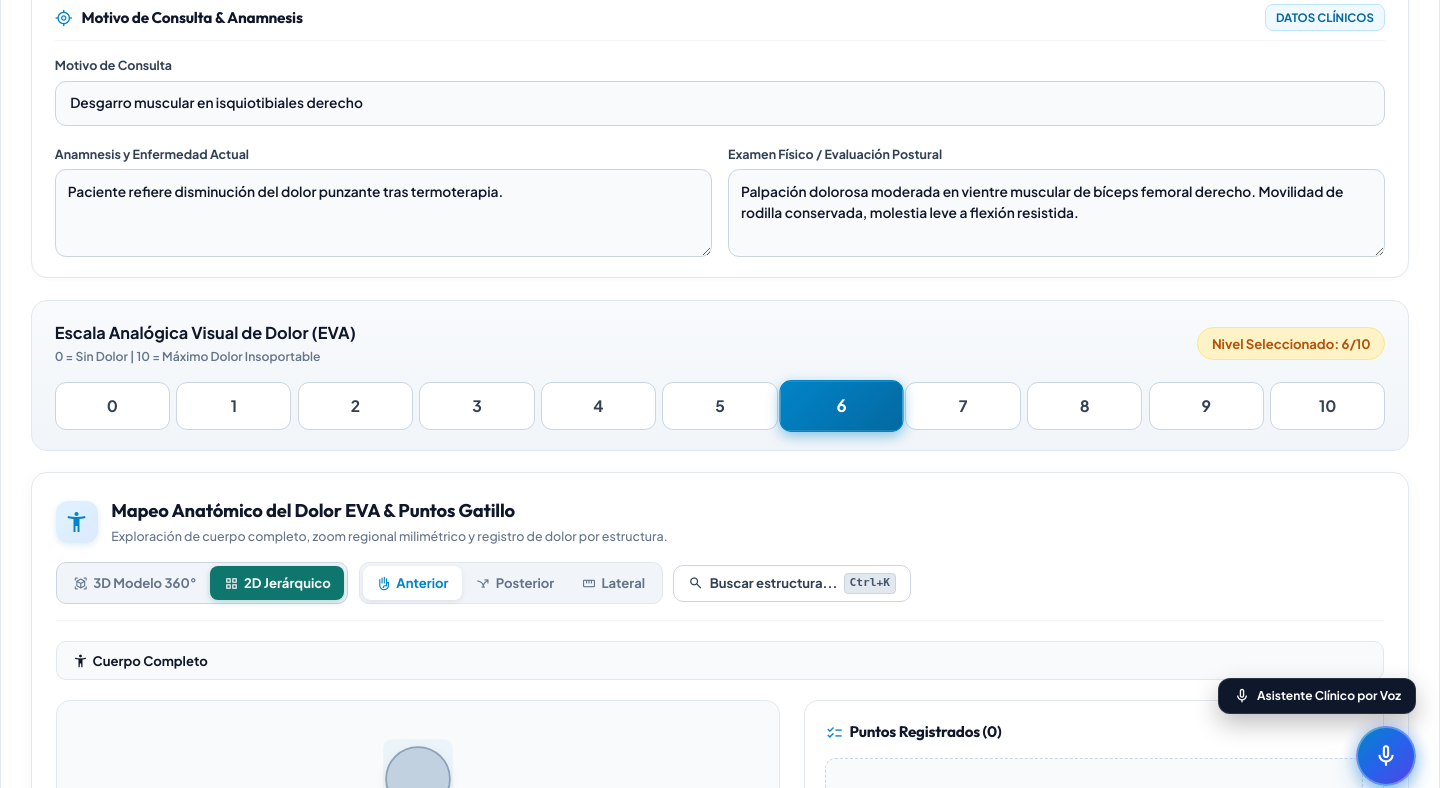
Scenario: ClinicalConsultationView Component › allows interacting with EVA pain scale and tab switching
The width and height of the screenshot is (1440, 788).
(page scrolled)
Note: Click on EVA scale button 9
Step 1. Click the button "9" → click(1206, 406), box x1=1148 y1=382 x2=1264 y2=430
(page scrolled)
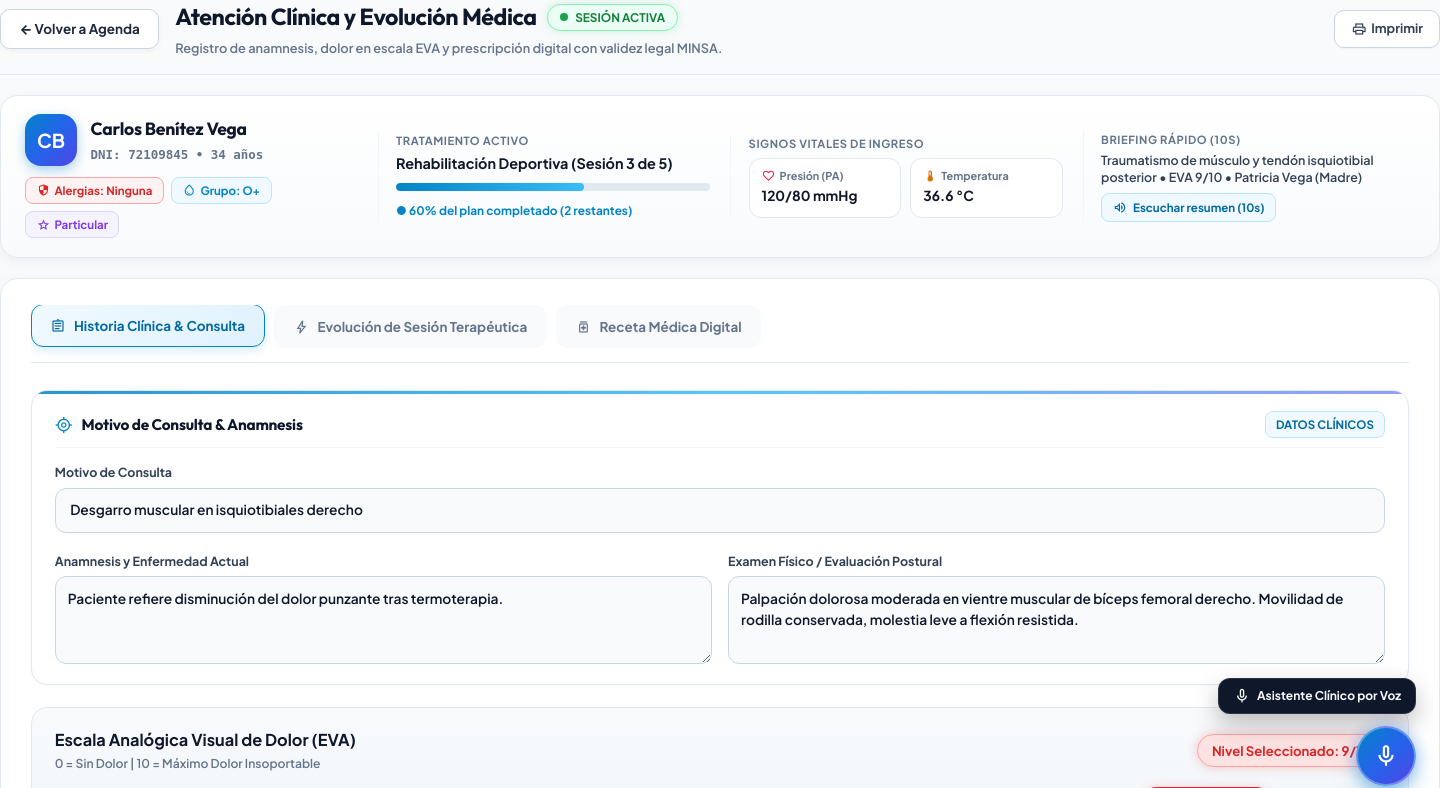
Expected: the text "Nivel Seleccionado: 9/10" is shown, x1=1197 y1=734 x2=1385 y2=767
Note: Switch to Evolución de Sesión Terapéutica
Step 2. Click the button "Evolución de Sesión Terapéutica" → click(410, 327), box x1=274 y1=305 x2=547 y2=348
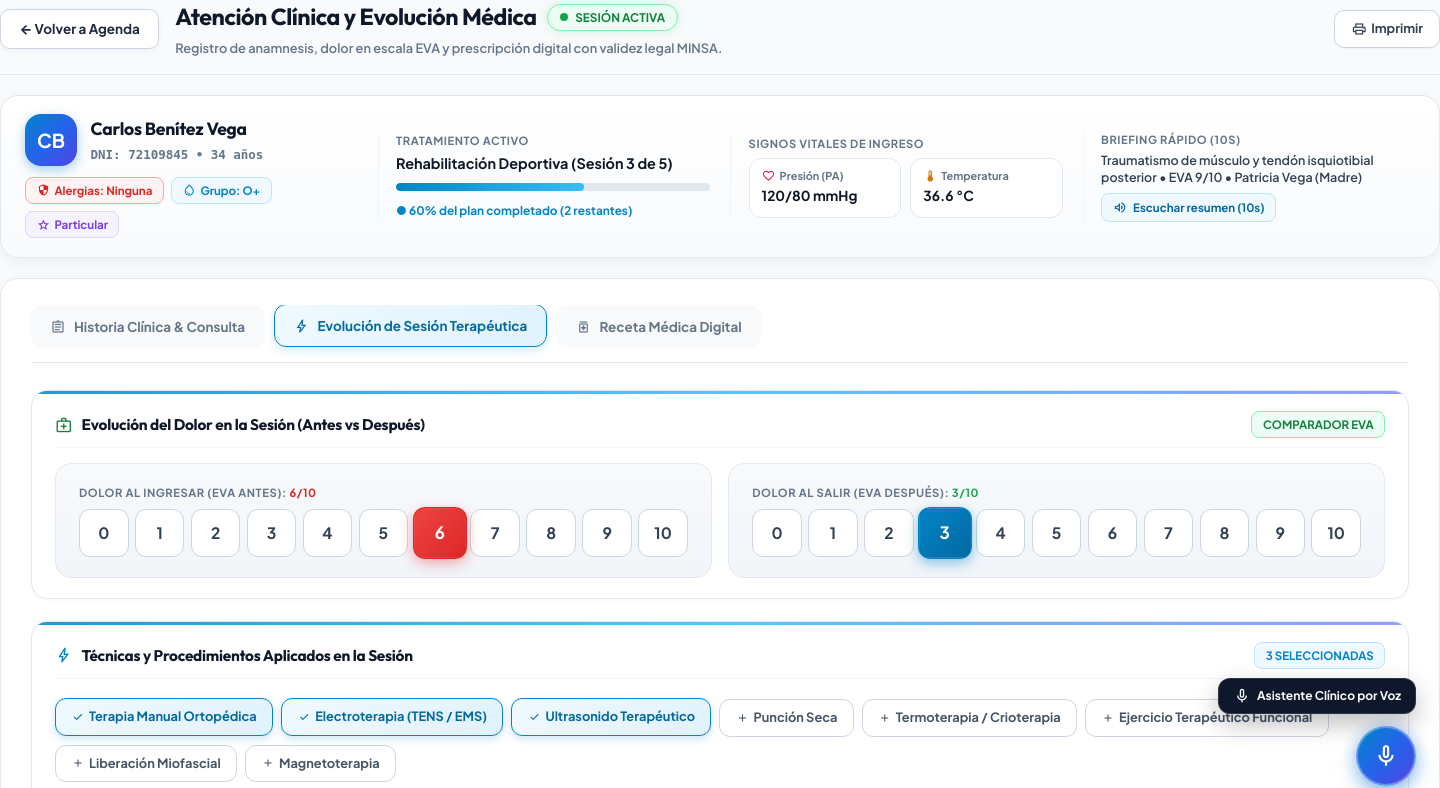
Expected: the heading "Técnicas y Procedimientos Aplicados en la Sesión" is shown, x1=55 y1=644 x2=413 y2=667
Note: Switch to Receta Médica
Step 3. Click the button "Receta Médica Digital" → click(659, 327), box x1=556 y1=305 x2=761 y2=348
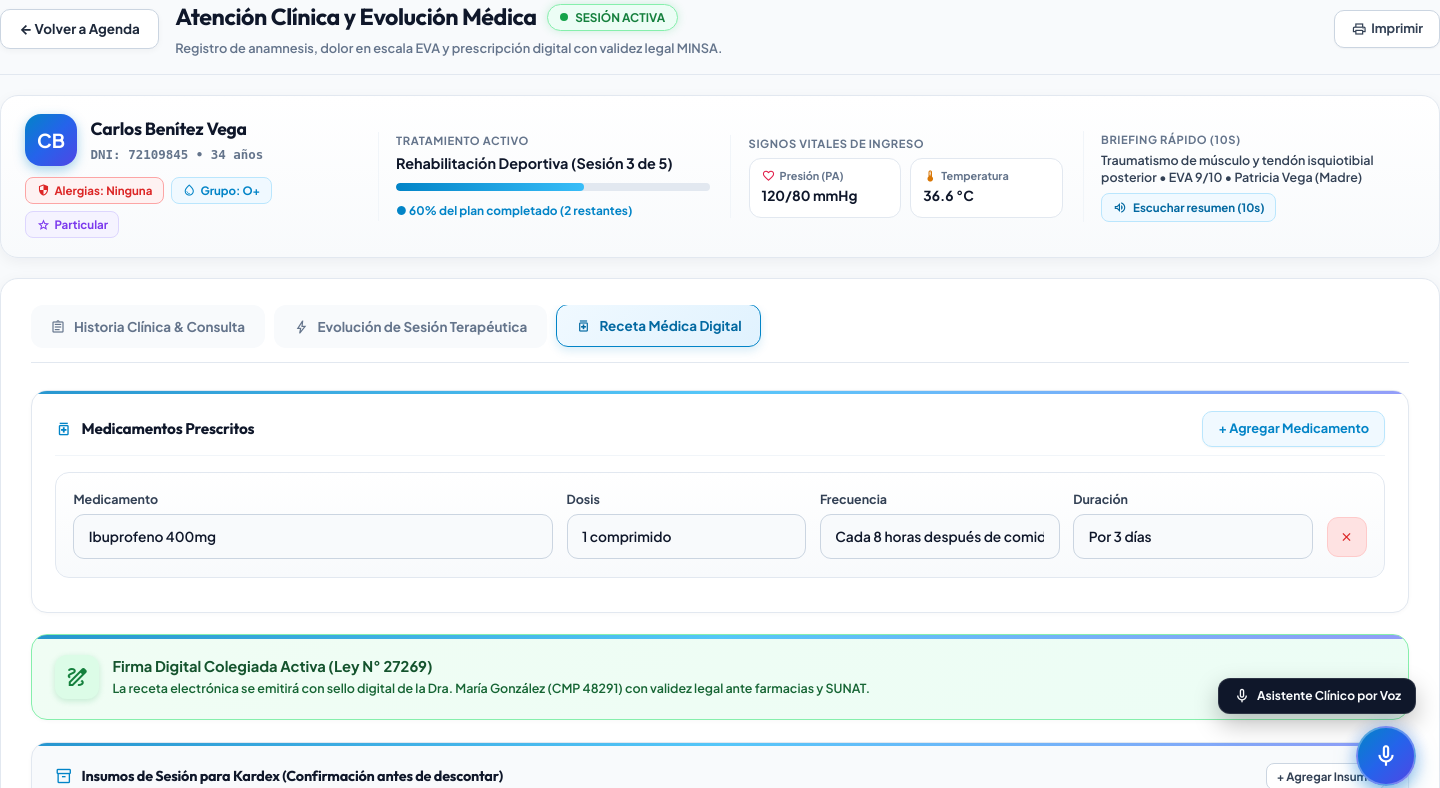
Expected: the heading "Medicamentos Prescritos" is shown, x1=55 y1=417 x2=254 y2=440
Expected: the 1st field showing "Ibuprofeno 400mg" is shown, x1=73 y1=514 x2=553 y2=559
